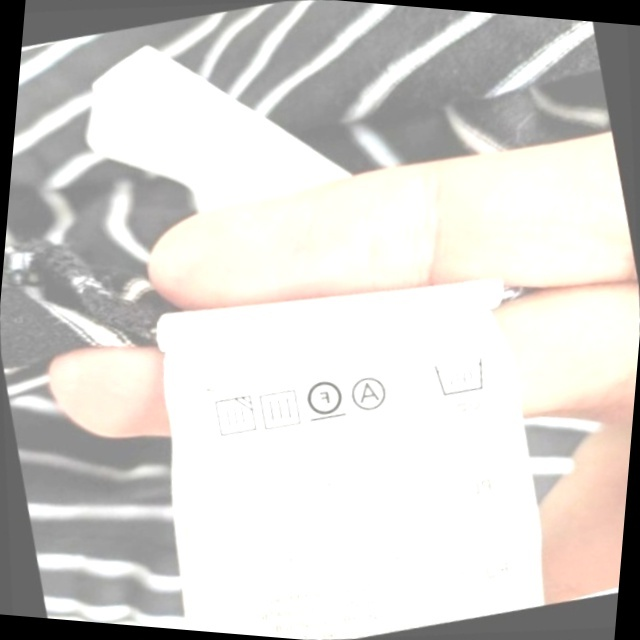95C: (426, 348, 494, 404)
bleach: (389, 359, 437, 411)
drip_dry: (251, 381, 308, 436)
drip_dry_in_shade: (204, 388, 262, 445)
dry_clean: (345, 369, 395, 417)
dry_clean_petrol_only: (298, 370, 351, 427)
